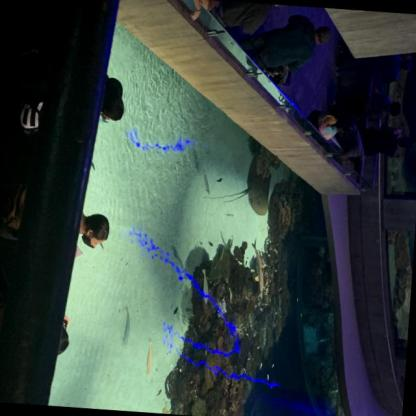fish: (121, 304, 132, 349), (198, 268, 211, 306), (144, 336, 154, 378), (201, 168, 212, 196), (180, 314, 193, 326), (227, 286, 233, 304), (219, 245, 225, 261), (172, 305, 180, 316), (155, 388, 162, 398), (214, 177, 223, 184), (265, 373, 270, 382), (207, 240, 213, 247), (258, 361, 262, 371), (270, 363, 274, 370), (300, 312, 303, 321), (255, 346, 260, 351), (296, 298, 299, 304), (247, 357, 250, 361)
shark: (248, 237, 268, 293)
stingray: (245, 154, 272, 216)
